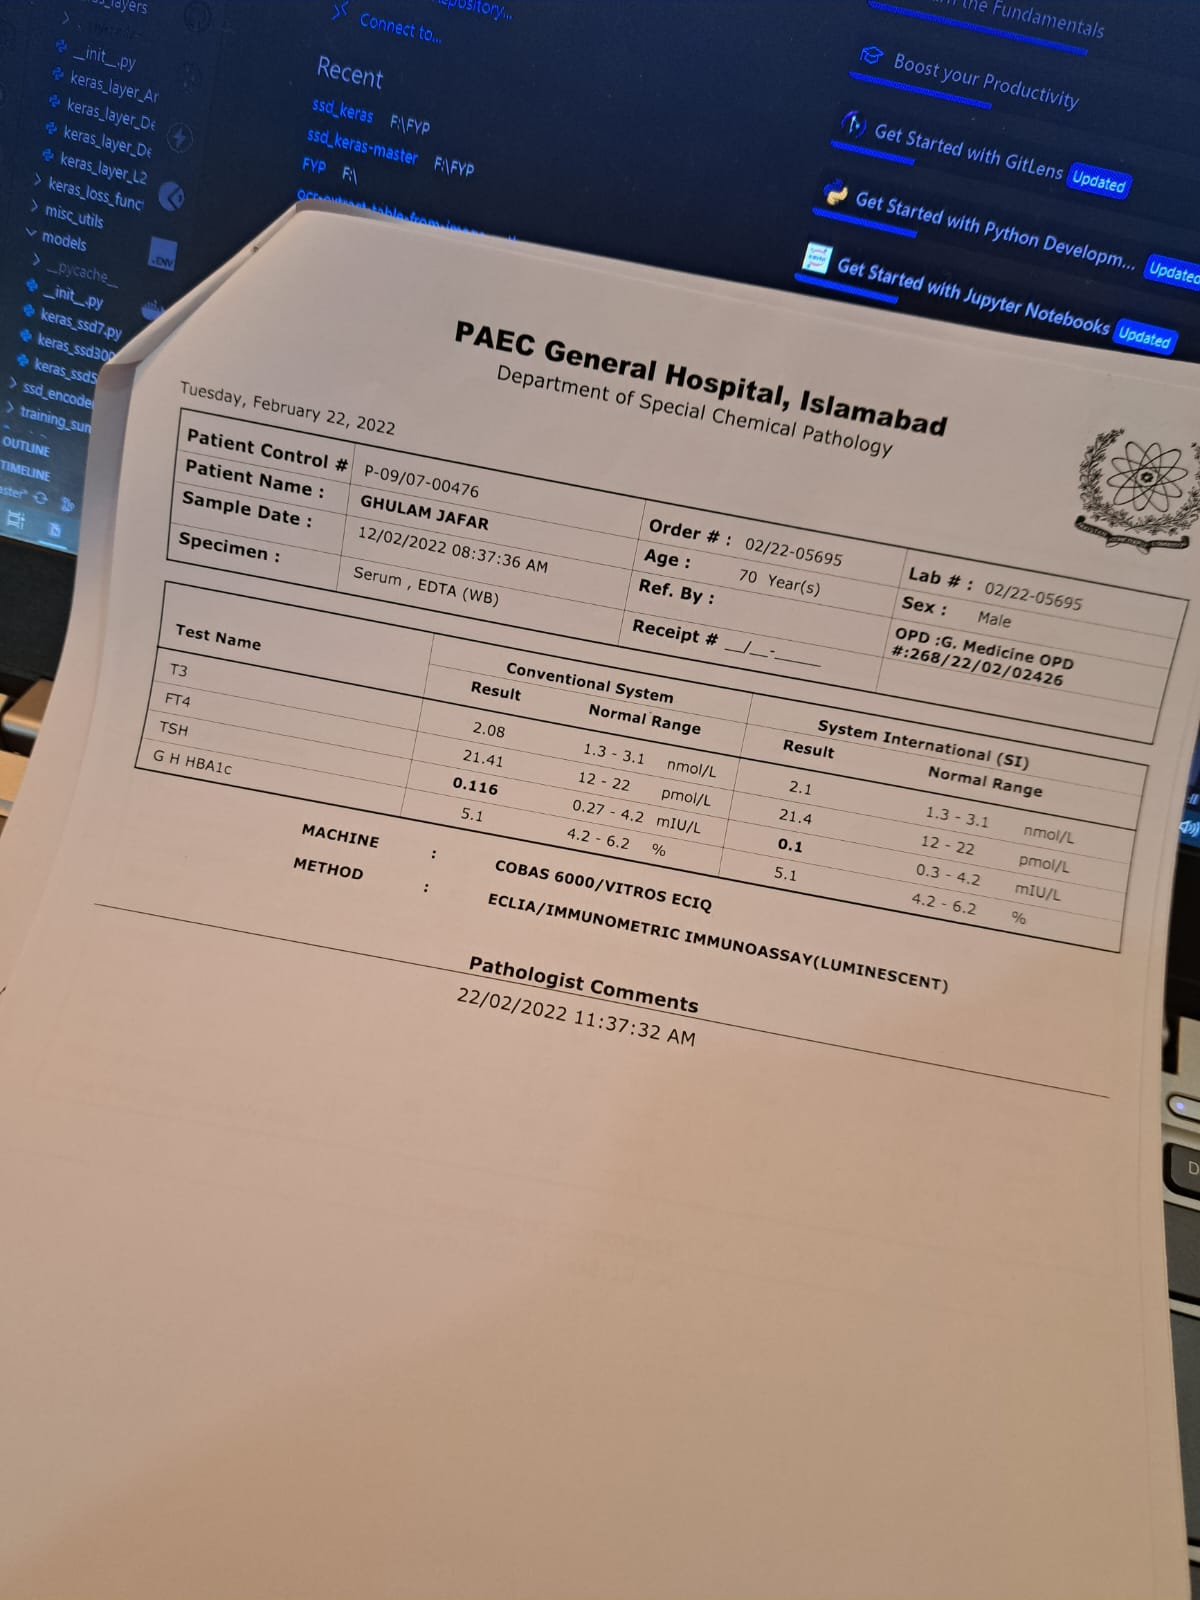report: (127, 577, 1158, 959)
